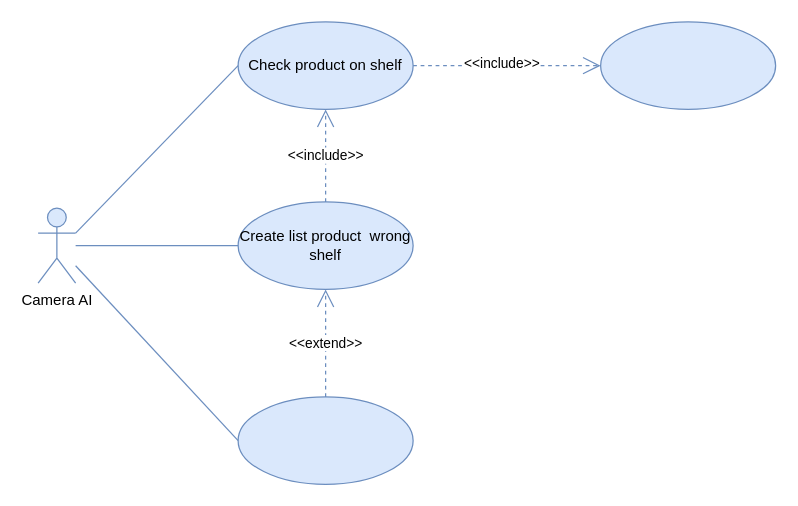
Some shapes in this 798 by 506 pixel diagram are drawn without their labels. The centre of each missing label's shape, as x and y in pixels:
Indentify product: point (687, 65)
Send request "Products in wrong shelf": point (325, 440)
